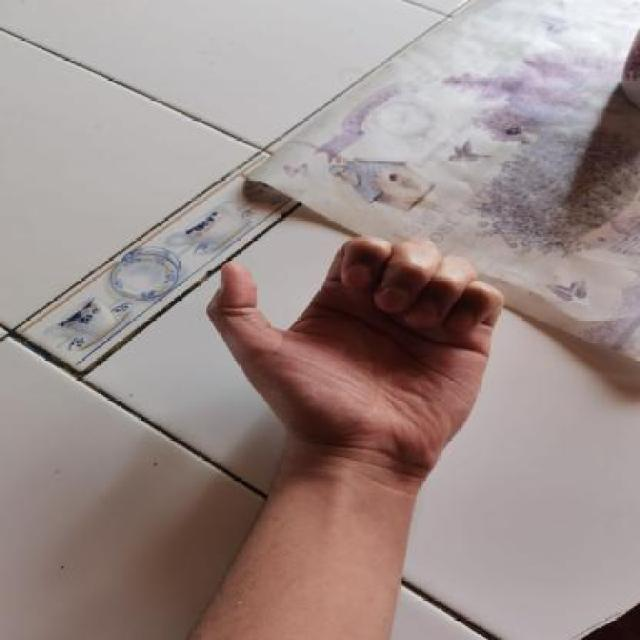E: (190, 219, 538, 479)
